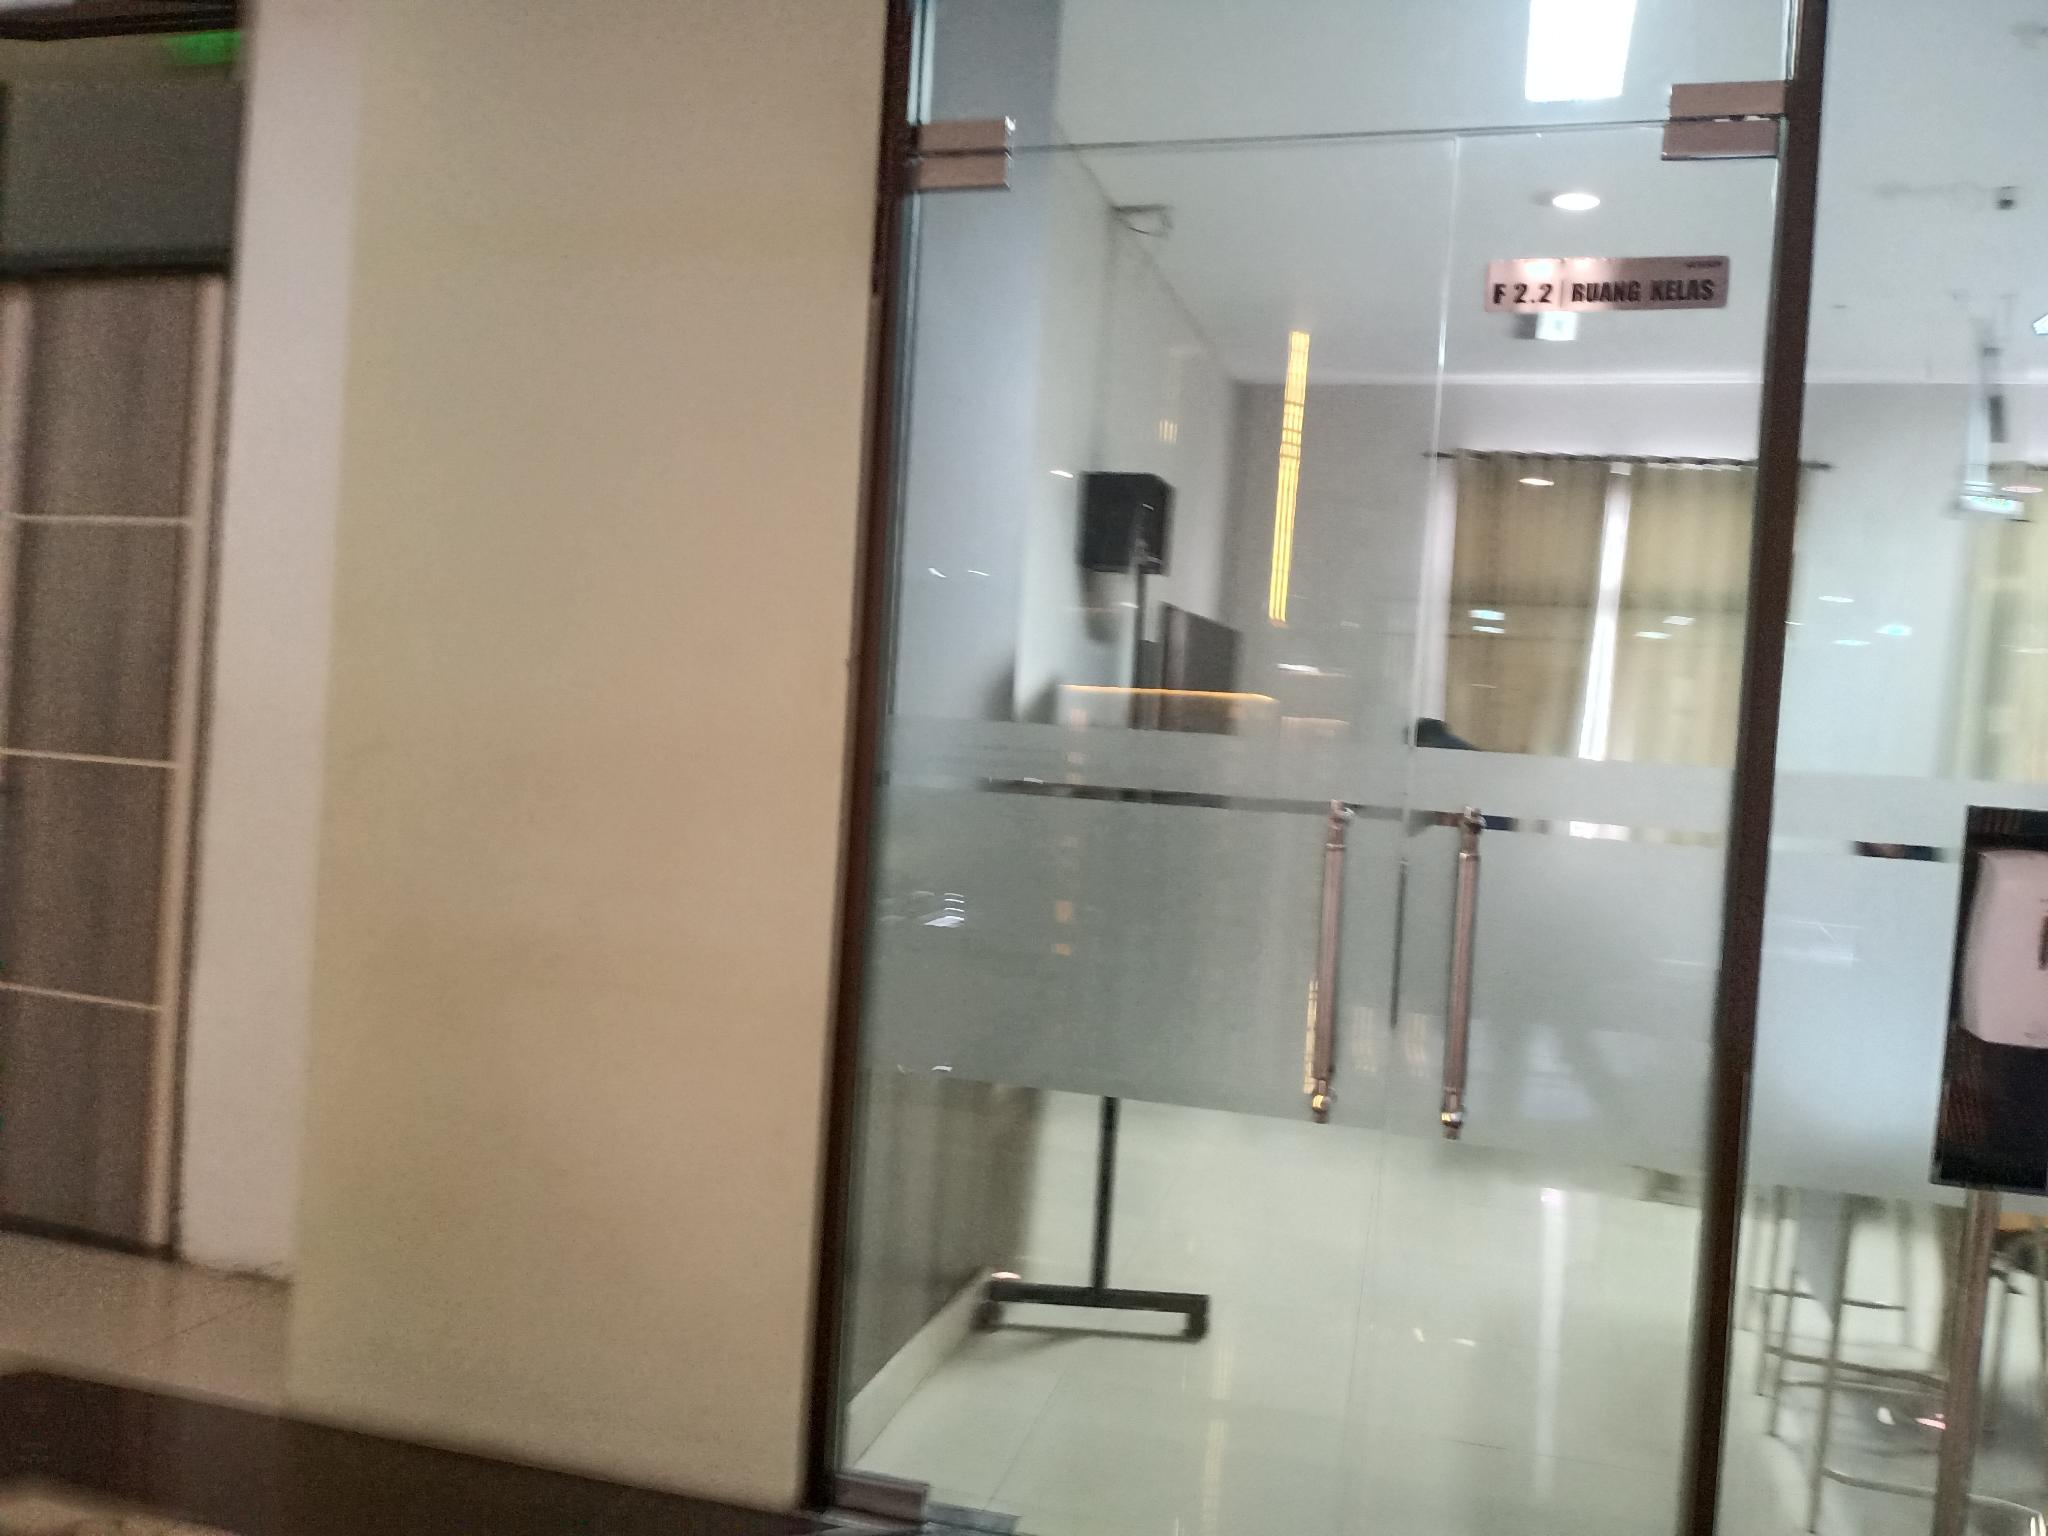plate: (1482, 257, 1730, 315)
